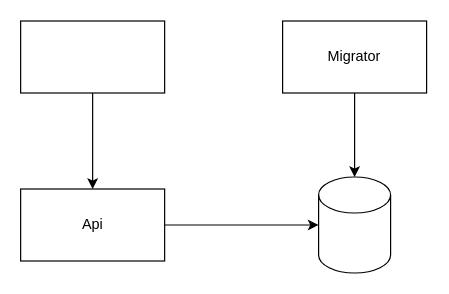
This 449x294 diagram has some shape labels left out. Here are the shapes that lost their labels. From the top down, the centre of each, then its label:
At pixel 92 56: "Frontend".
At pixel 354 224: "DB Songs".
